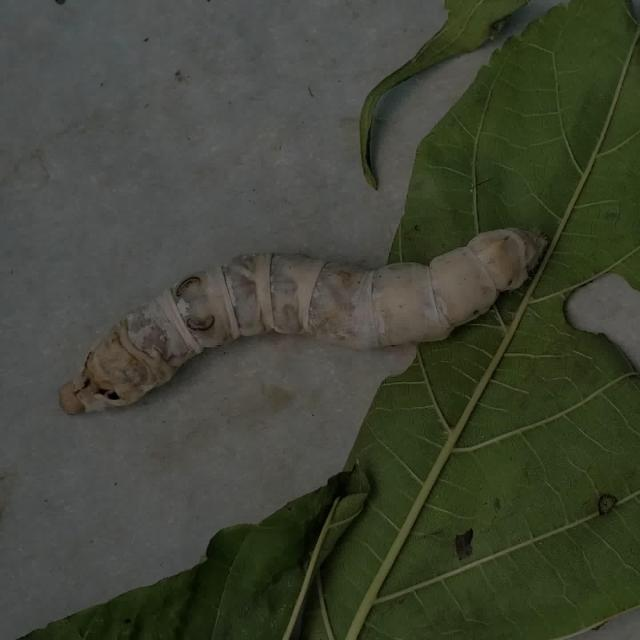Grasserie: (45, 182, 562, 456)
